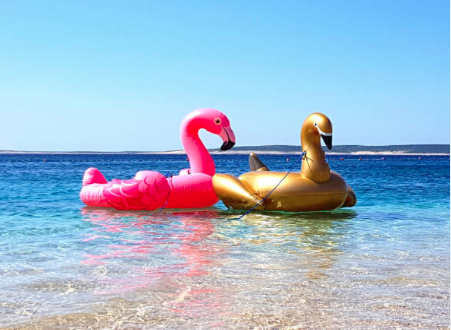Flamingo: (79, 107, 235, 215)
